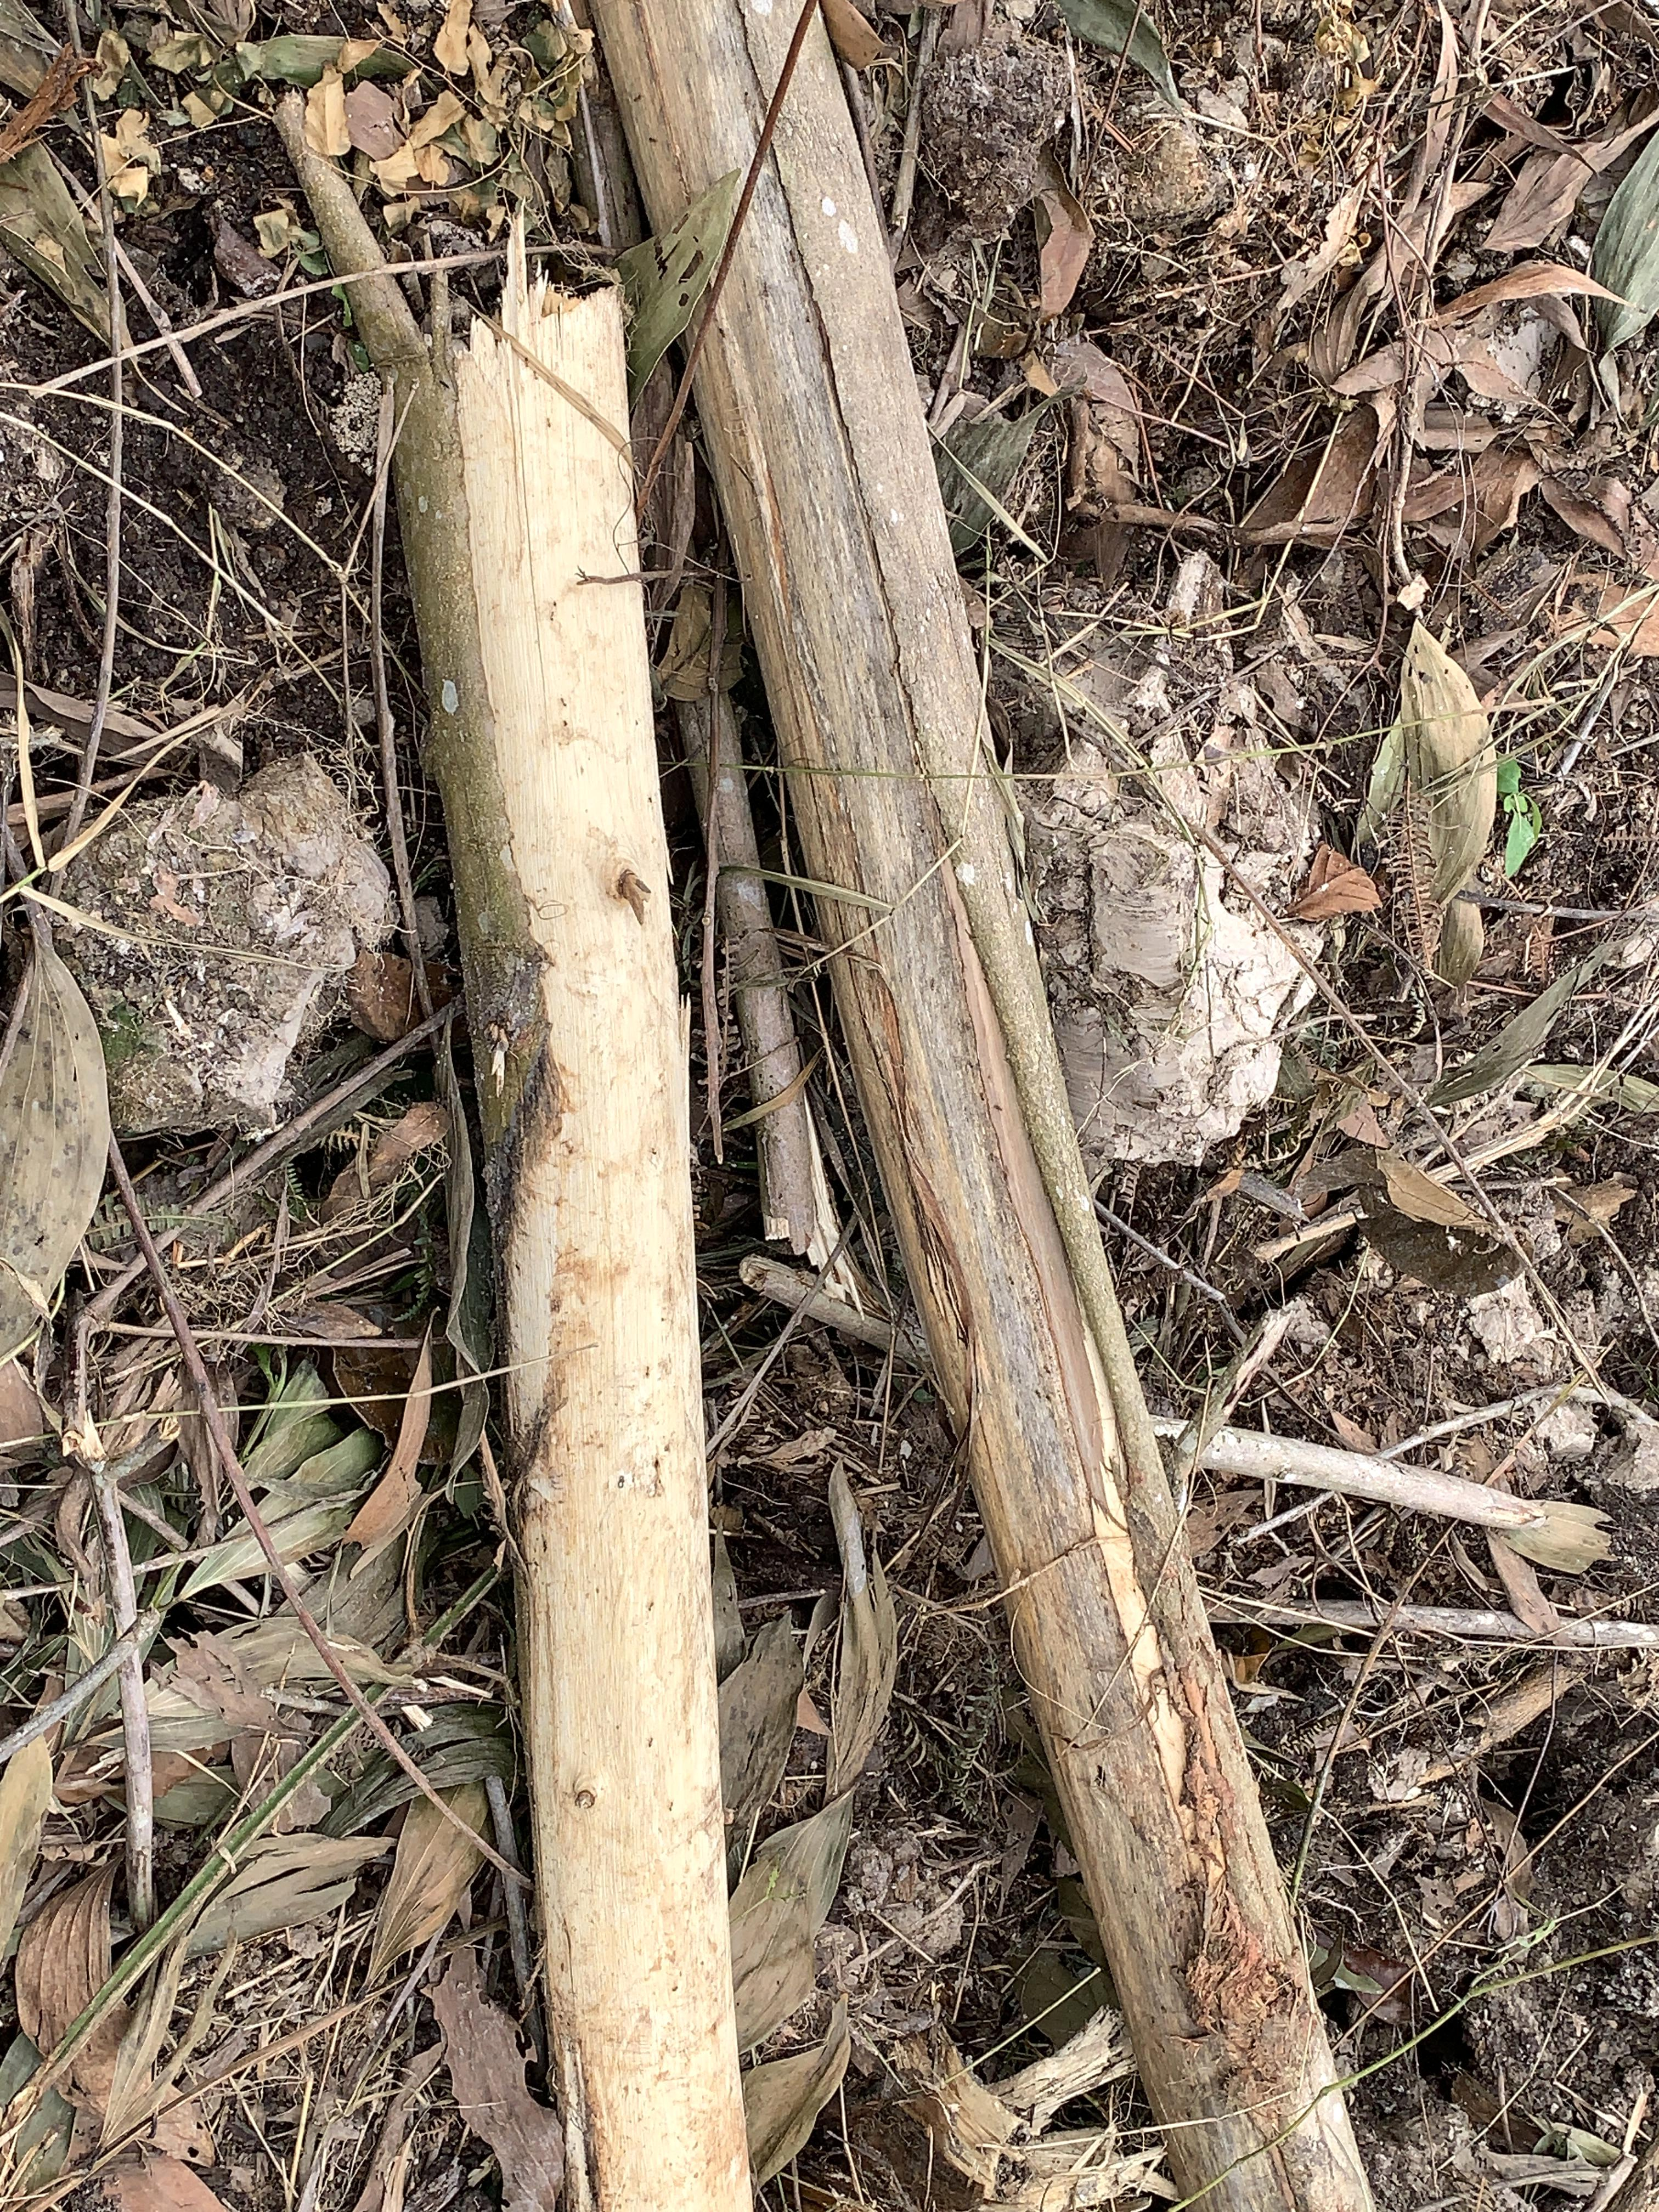Mammals Attack: (342, 209, 802, 2212)
